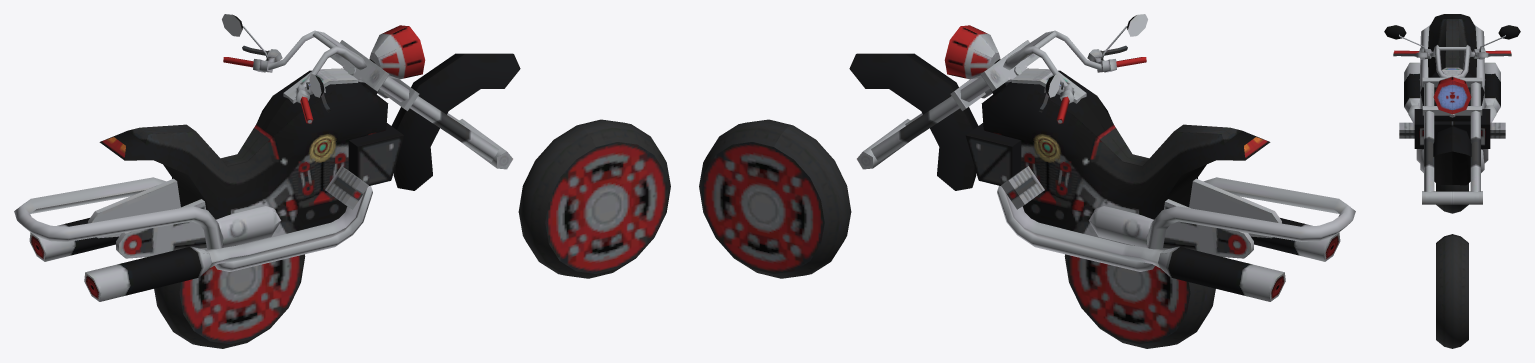
The model's file is Bike.DAE.
3 views of the same model, side by side, from view 1: azimuth 30°, elevation 25°; view 2: azimuth 150°, elevation 25°; view 3: azimuth 270°, elevation 25° (orthographic). The views are drawn at different scales.
Visible parts, largest first — view 1: Object04, Object06, Object05, Object08, Object07, Object09, Object01; view 2: Object04, Object06, Object05, Object08, Object07, Object09, Object01; view 3: Object04, Object07, Object06, Object08, Object01, Object11, Object05, Object09.
Part boxes in pixels (x1,y1,x2,y2): Object04: (14,59,404,301); Object06: (518,119,670,278); Object05: (154,254,305,348); Object08: (391,53,520,190); Object07: (330,25,512,169); Object09: (88,68,358,258); Object01: (222,14,366,124); Object04: (965,59,1355,301); Object06: (699,119,851,278); Object05: (1064,254,1215,348); Object08: (849,53,978,190); Object07: (857,25,1039,169); Object09: (1011,68,1281,258); Object01: (1003,14,1147,124); Object04: (1399,14,1505,172); Object07: (1422,76,1482,204); Object06: (1436,234,1468,348); Object08: (1433,126,1471,185); Object01: (1384,25,1520,77); Object11: (1433,80,1471,114); Object05: (1436,183,1468,213); Object09: (1442,67,1462,75).
Bounding box in the file's own units: 300 × 80.49 × 137.
2 materials, 2 textured.
